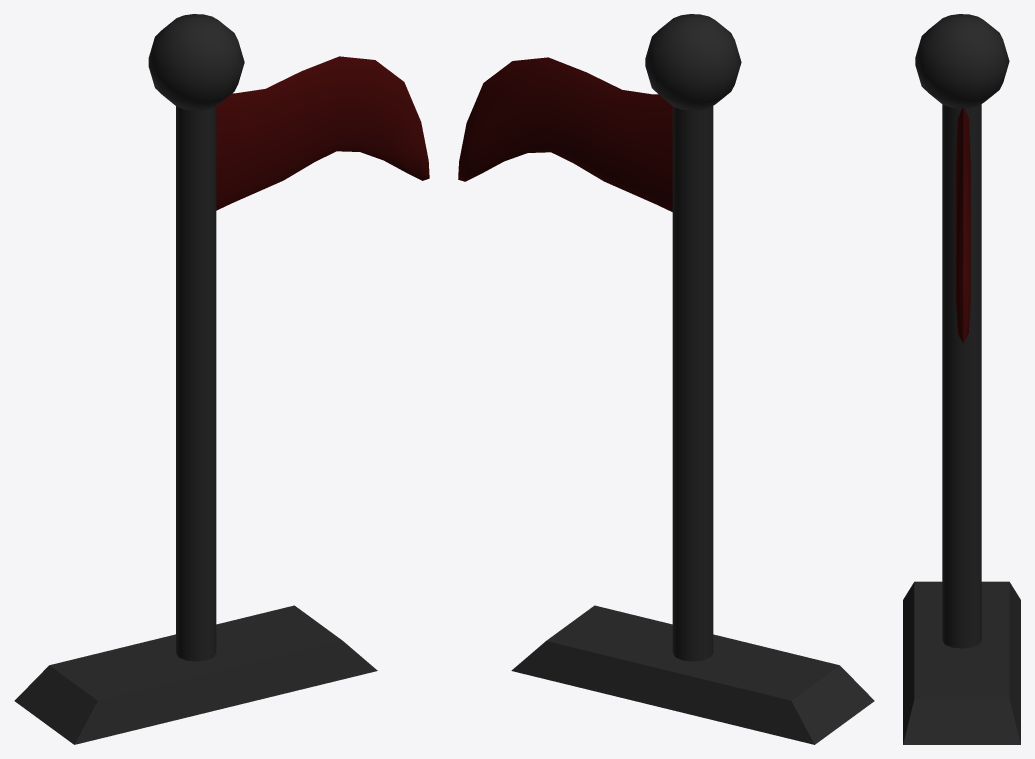
File: Goal_Flag.obj
The picture shows the model from 3 angles, left to right: view 1: azimuth 30°, elevation 25°; view 2: azimuth 150°, elevation 25°; view 3: azimuth 270°, elevation 25°; orthographic projection. The views are drawn at different scales.
Parts seen in each view (by area): view 1: Goal_Flag_Cylinder.010; view 2: Goal_Flag_Cylinder.010; view 3: Goal_Flag_Cylinder.010.
Boxes of the visible parts, x1,y1,x2,y2 form: Goal_Flag_Cylinder.010: (14, 14, 429, 744); Goal_Flag_Cylinder.010: (458, 14, 874, 744); Goal_Flag_Cylinder.010: (903, 14, 1020, 744).
Size of the model in its own units: 1.41 by 2.33 by 0.3804.
